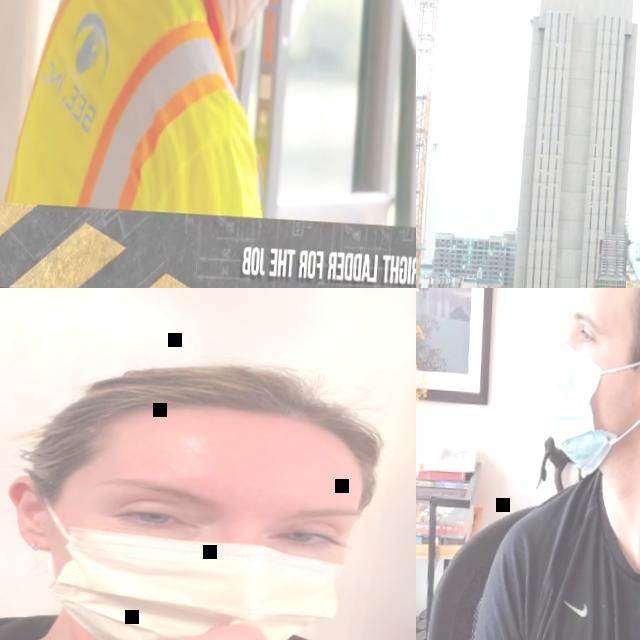Mask: (38, 482, 358, 640), (542, 340, 640, 480)
NO-Hardhat: (56, 354, 382, 466)
NO-Mask: (207, 0, 267, 53)
NO-Safety Vest: (519, 483, 640, 640)
Person: (0, 338, 416, 640), (6, 0, 347, 219), (454, 288, 640, 640)
Safety Vest: (6, 0, 282, 218)
